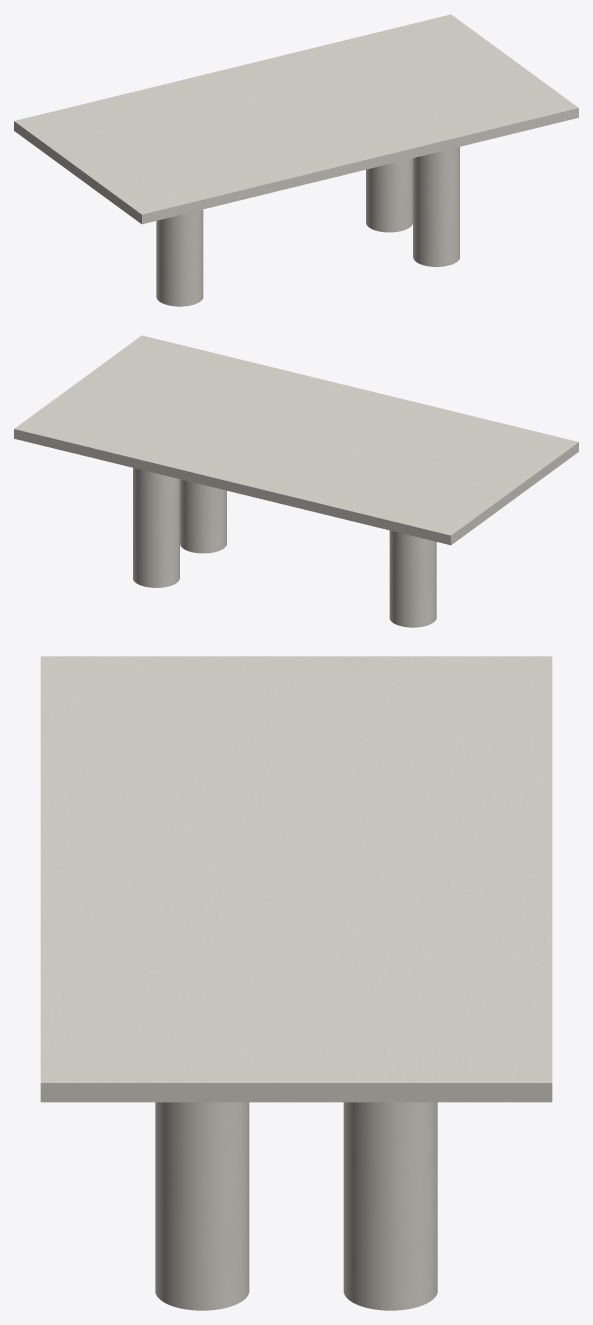
Rendered from pale_recta_standard_cylinder.glb.
3 renders of one model, top to bottom at view 1: azimuth 30°, elevation 25°; view 2: azimuth 150°, elevation 25°; view 3: azimuth 270°, elevation 25°, orthographic. The views are drawn at different scales.
Visible parts, largest first — view 1: standard_recta, cylinder; view 2: standard_recta, cylinder; view 3: standard_recta, cylinder.
Boxes of the visible parts, box(x1,y1,x2,y2) form: standard_recta: box(14, 14, 578, 224); cylinder: box(156, 147, 459, 306); standard_recta: box(14, 335, 578, 545); cylinder: box(133, 468, 436, 627); standard_recta: box(40, 656, 552, 1102); cylinder: box(155, 1102, 437, 1310).
Size of the model in its own units: 7.5 by 2.52 by 3.8.
Materials: 1 (1 with a texture image).
